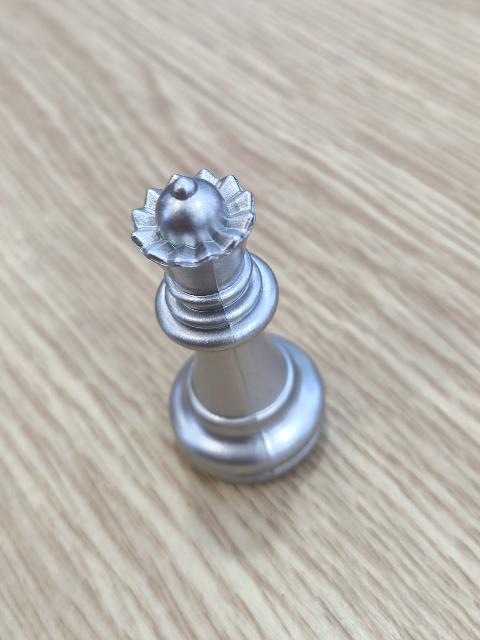white_queen: (128, 167, 327, 482)
